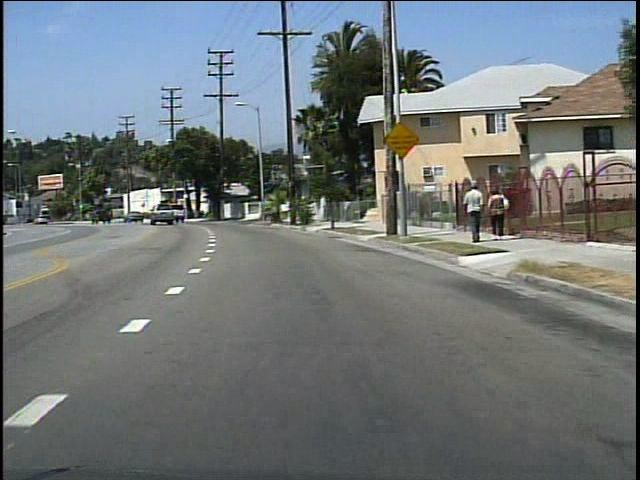person: (483, 187, 509, 244), (460, 179, 482, 244)
